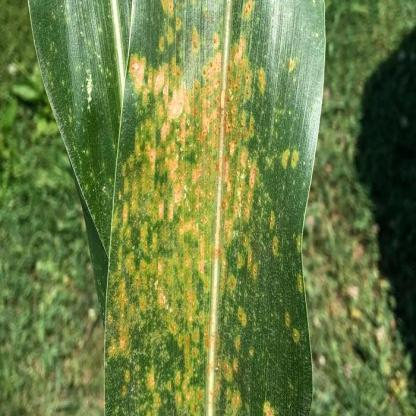corn rust leaf: (99, 3, 322, 415)
